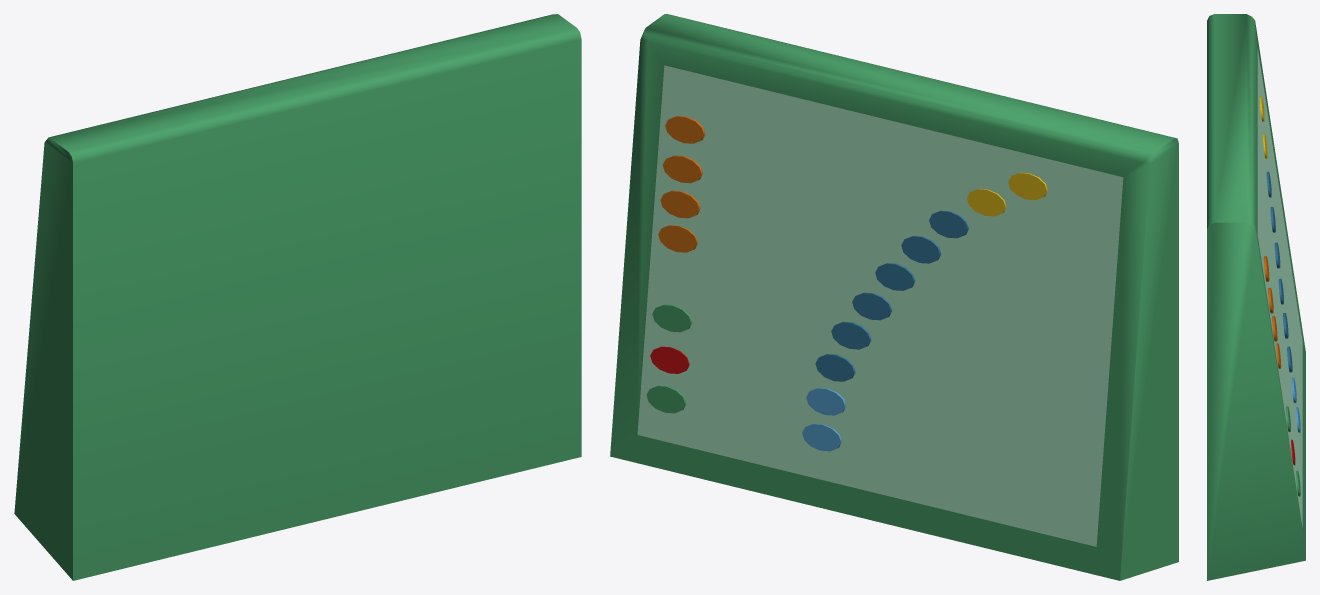
3 renders of one model, left to right at view 1: azimuth 30°, elevation 25°; view 2: azimuth 150°, elevation 25°; view 3: azimuth 270°, elevation 25°, orthographic. The views are drawn at different scales.
Parts seen in each view (by area): view 1: Cube; view 2: Cube; view 3: Cube.
Part boxes in pixels (box(x1,y1,x2,y2)): Cube: box(14, 14, 581, 580); Cube: box(610, 14, 1178, 580); Cube: box(1207, 14, 1305, 580).
Bounding box in the file's own units: 25 × 20 × 5.
